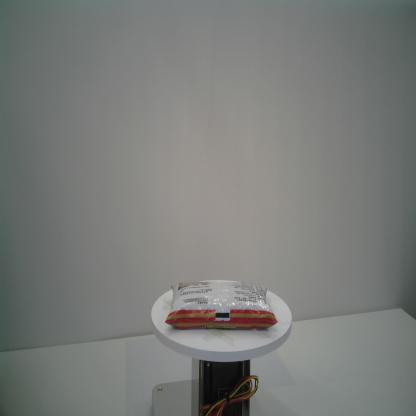Seasoner: (160, 275, 278, 332)
